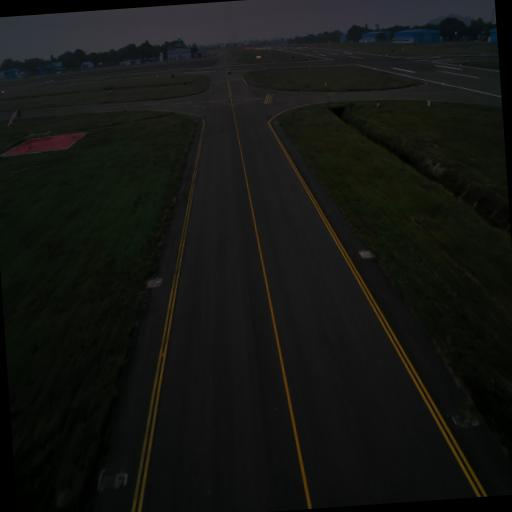on: (362, 246, 365, 254), (156, 276, 159, 282)
